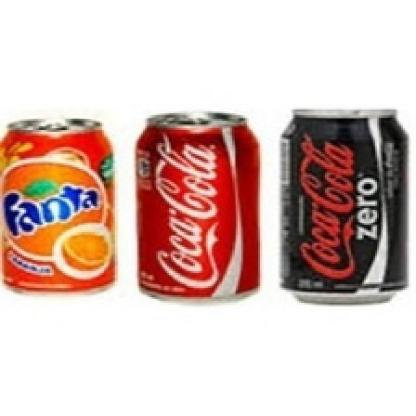Can: (271, 107, 408, 307), (136, 114, 261, 301), (284, 109, 403, 297), (0, 120, 116, 293)
